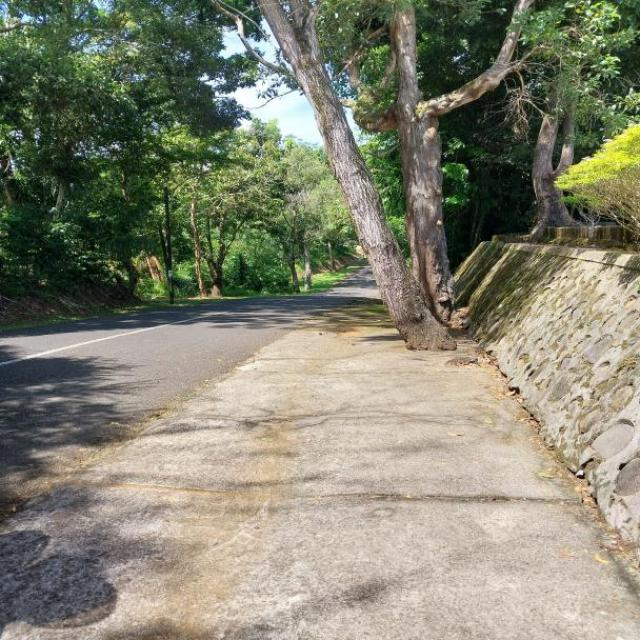tree ahead at: (248, 1, 494, 357)
